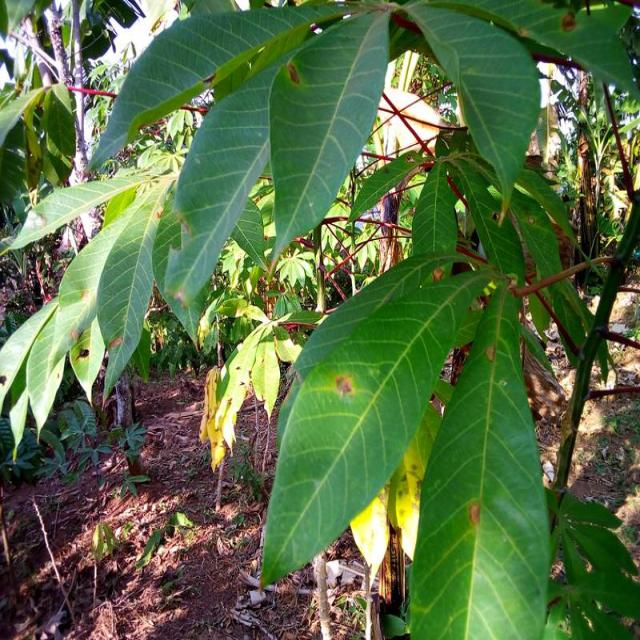cassava leaf: (258, 256, 496, 590), (406, 280, 552, 638), (84, 4, 325, 174), (266, 3, 392, 273), (401, 0, 541, 219)
